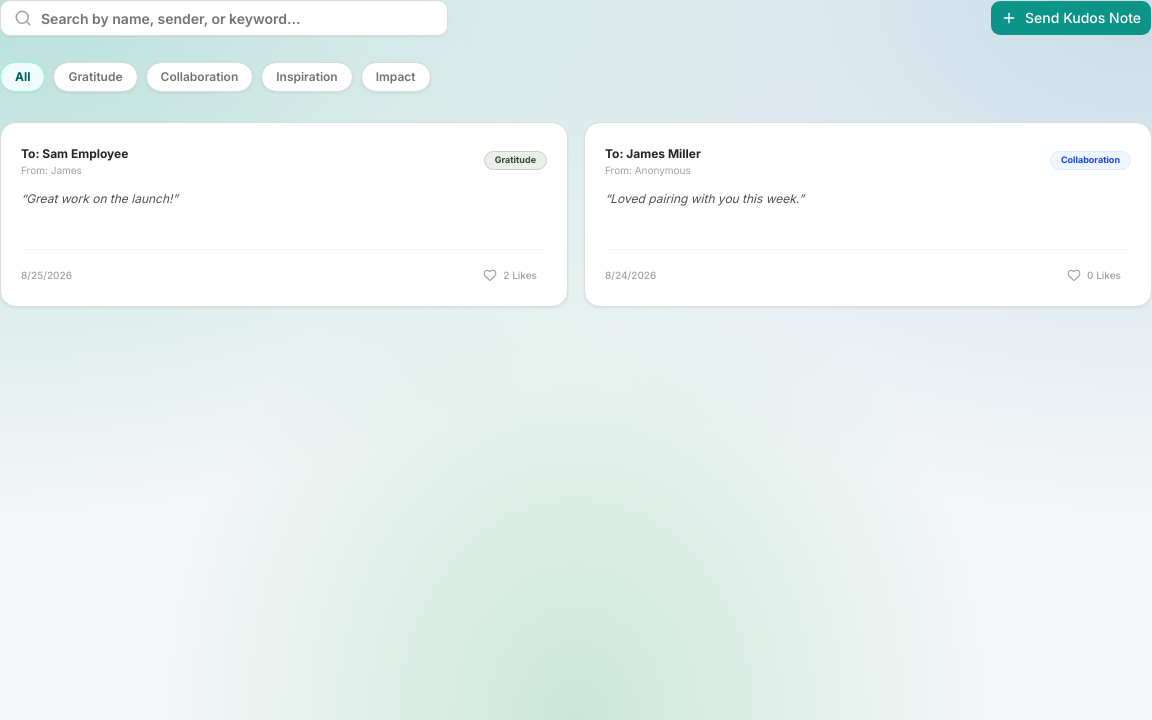
it: KudosFeed › shows a composer error and does not submit when no recipient is selected
This screenshot has width=1152, height=720.
Expected: the text "“Great work on the launch!”" is shown, [21,191,178,206]
Step 1. Click the button "Send Kudos Note" → (1071, 18), box [990,0,1151,36]
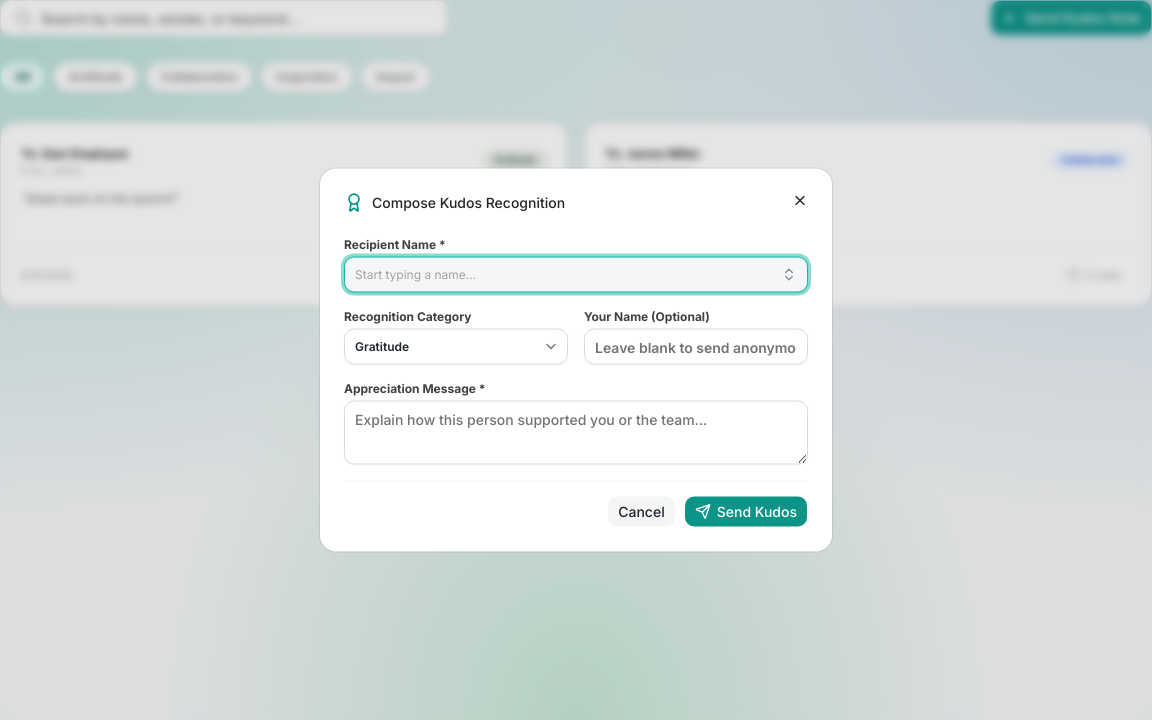
Now the dialog is shown, box [320,168,832,552]
Step 2. Type "Great job this week!" into the text box labelled "Appreciation Message *" → (576, 432), box [344,400,808,464]
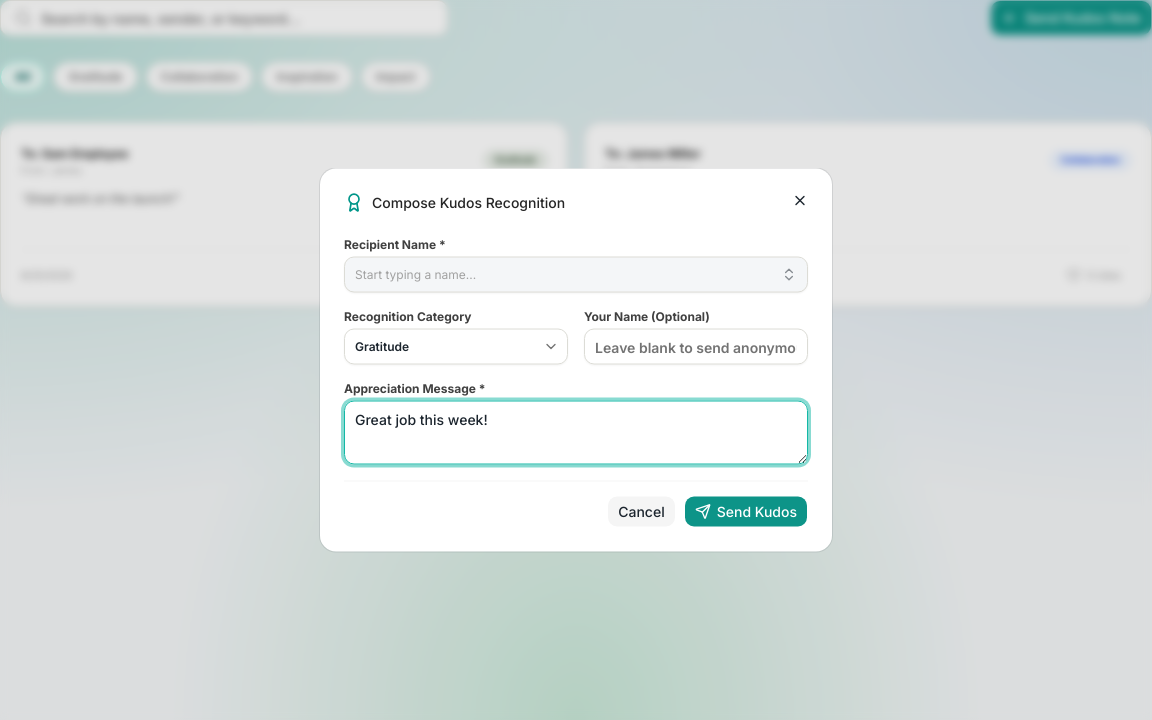
Step 3. Click the button "Send Kudos" → (746, 512), box [684,496,808,528]
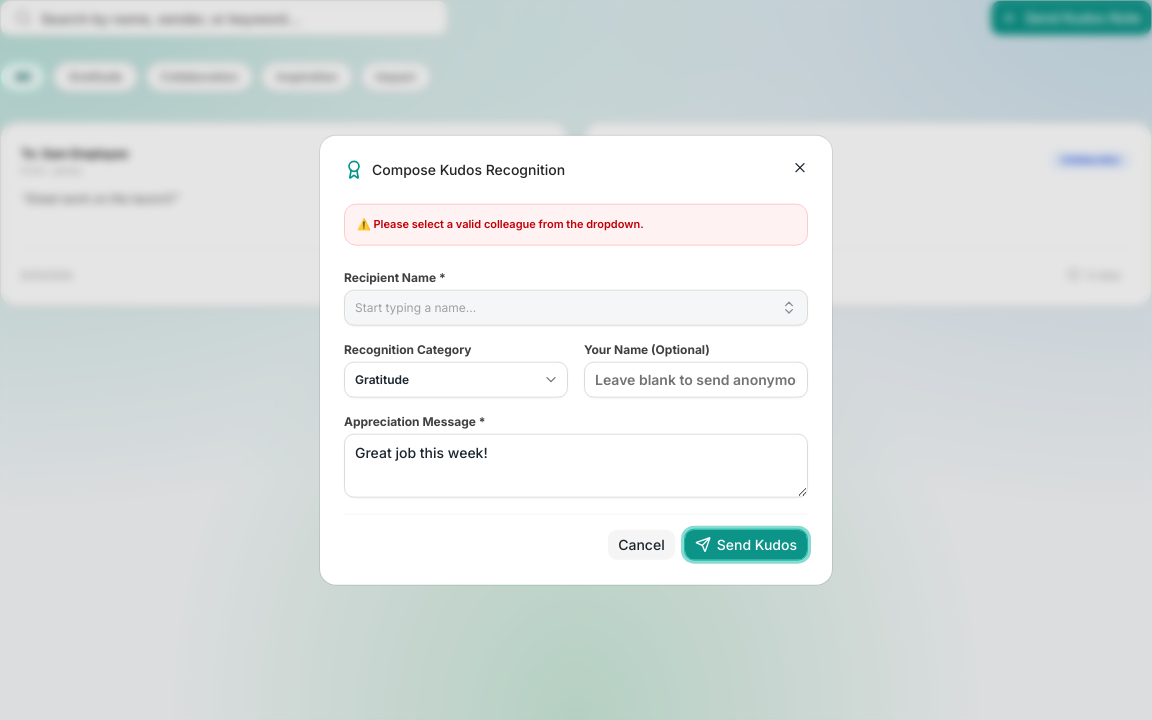
Now the text "⚠️ Please select a valid colleague from the dropdown." is shown, box [344,204,808,245]
